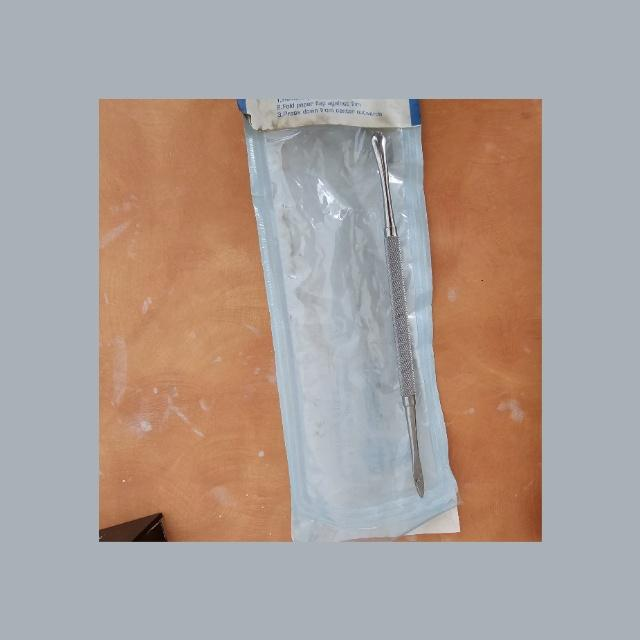elevador: (371, 132, 426, 498)
